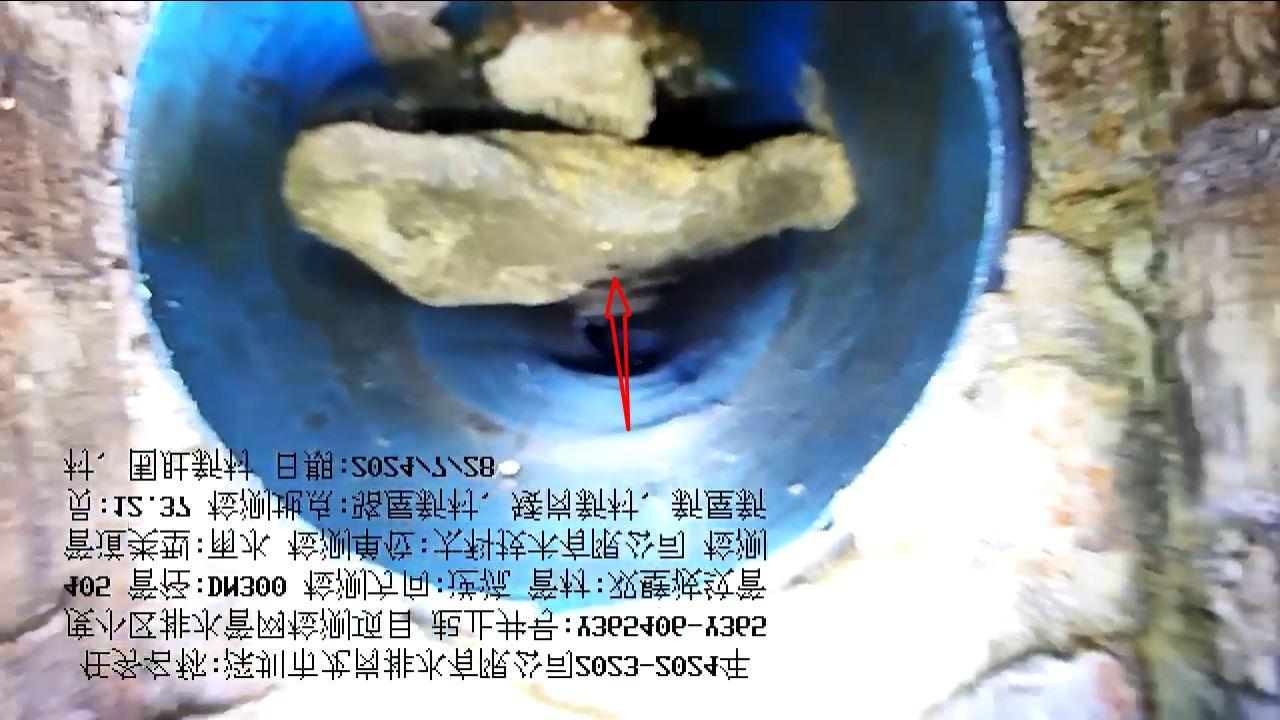ZAW: (283, 4, 855, 306)
